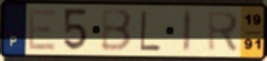5: (62, 7, 90, 54)
B: (99, 8, 134, 54)
E: (27, 8, 58, 52)
I: (181, 8, 194, 54)
L: (138, 9, 162, 53)
R: (207, 9, 242, 55)
